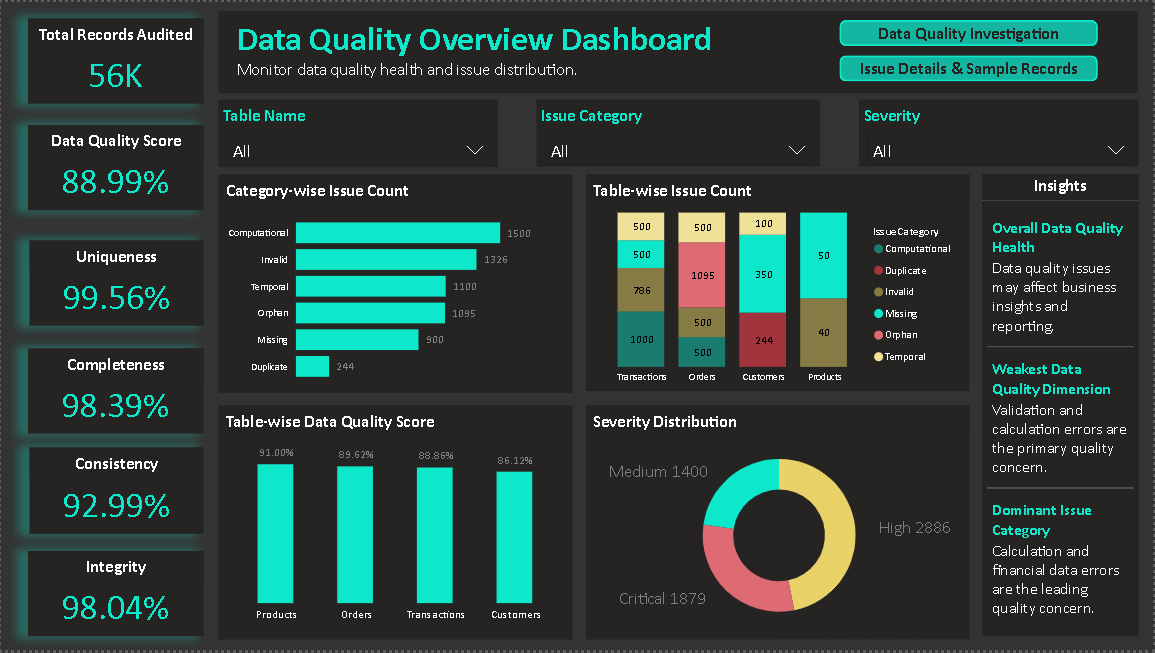

This screenshot's page, from the dashboard's own definition file:
{"tool":"powerbi","page":{"name":"Data Quality Overview","canvas":[1280,720],"ordinal":0},"visuals":[{"type":"textbox","box":[242.4,9.8,1021.5,91.1],"z":0},{"type":"cardVisual","title":"Total Records Audited","fields":{"Data":["public vw_issue_audit.Total Records Audited"]},"box":[29.3,17.9,195.2,94.3],"z":1000},{"type":"cardVisual","title":"Data Quality Score","fields":{"Data":["public vw_issue_audit.Data Quality Score %"]},"box":[29.3,136.6,195.2,94.3],"z":2000},{"type":"cardVisual","title":"Uniqueness","fields":{"Data":["public vw_issue_audit.Uniqueness %"]},"box":[30.9,265.1,193.6,94.3],"z":3000},{"type":"cardVisual","title":"Completeness","fields":{"Data":["public vw_issue_audit.Completeness %"]},"box":[29.3,385.5,195.2,94.3],"z":4000},{"type":"cardVisual","title":"Consistency","fields":{"Data":["public vw_issue_audit.Consistency %"]},"box":[30.9,494.5,193.6,96],"z":5000},{"type":"cardVisual","title":"Integrity","fields":{"Data":["public vw_issue_audit.Integrity %"]},"box":[29.3,610,195.2,94.3],"z":6000},{"type":"clusteredBarChart","title":"Category-wise Issue Count","fields":{"Category":["public vw_issue_audit.issuecategory"],"Y":["CountNonNull(public vw_issue_audit.recordid)"]},"box":[242.4,191.9,393.6,242.4],"z":7000},{"type":"hundredPercentStackedColumnChart","title":"Table-wise Issue Count","fields":{"Category":["public vw_issue_audit.tablename"],"Y":["CountNonNull(public vw_issue_audit.recordid)"],"Series":["public vw_issue_audit.issuecategory"]},"box":[650.6,191.9,426.2,240.7],"z":8000},{"type":"donutChart","title":"Severity Distribution","fields":{"Category":["public vw_issue_audit.severity"],"Y":["CountNonNull(public vw_issue_audit.recordid)"]},"box":[650.6,448.9,426.2,260.2],"z":9000},{"type":"columnChart","title":"Table-wise Data Quality Score","fields":{"Y":["public vw_issue_audit.DQ Score by Table %"],"Category":["public vw_issue_audit.tablename"]},"box":[242.4,448.9,393.6,260.2],"z":10000},{"type":"slicer","title":"Table Name","fields":{"Values":["public vw_issue_audit.tablename"]},"box":[242.4,109,310.7,75],"z":11000},{"type":"slicer","title":"Issue Category","fields":{"Values":["public vw_issue_audit.issuecategory"]},"box":[595.3,109,315.5,74.8],"z":12000},{"type":"slicer","title":"Severity","fields":{"Values":["public vw_issue_audit.severity"]},"box":[953.2,109,310.7,74.8],"z":13000},{"type":"cardVisual","title":"Insights","fields":{"Data":["public vw_issue_audit.Overall Data Quality Health","public vw_issue_audit.Weakest Data Quality Dimension","public vw_issue_audit.Dominant Issue Category"]},"box":[1089.8,191.9,174,512.4],"z":14000},{"type":"pageNavigator","box":[932,19.5,287.9,69.9],"z":15000}]}

Visuals, with their boxes in screenshot pixels (x1, y1, x2, y2), scaled from the page's 1280x720 canvas onto the 1155x653 screenshot:
textbox: bbox(219, 9, 1140, 92)
"Total Records Audited" cardVisual: bbox(26, 16, 203, 102)
"Data Quality Score" cardVisual: bbox(26, 124, 203, 209)
"Uniqueness" cardVisual: bbox(28, 240, 203, 326)
"Completeness" cardVisual: bbox(26, 350, 203, 435)
"Consistency" cardVisual: bbox(28, 448, 203, 536)
"Integrity" cardVisual: bbox(26, 553, 203, 639)
"Category-wise Issue Count" clusteredBarChart: bbox(219, 174, 574, 394)
"Table-wise Issue Count" hundredPercentStackedColumnChart: bbox(587, 174, 972, 392)
"Severity Distribution" donutChart: bbox(587, 407, 972, 643)
"Table-wise Data Quality Score" columnChart: bbox(219, 407, 574, 643)
"Table Name" slicer: bbox(219, 99, 499, 167)
"Issue Category" slicer: bbox(537, 99, 822, 167)
"Severity" slicer: bbox(860, 99, 1140, 167)
"Insights" cardVisual: bbox(983, 174, 1140, 639)
pageNavigator: bbox(841, 18, 1101, 81)
